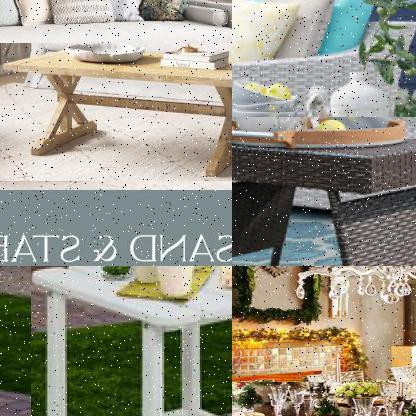table: (0, 43, 231, 183), (29, 266, 231, 415), (232, 116, 415, 265), (232, 382, 415, 415)
